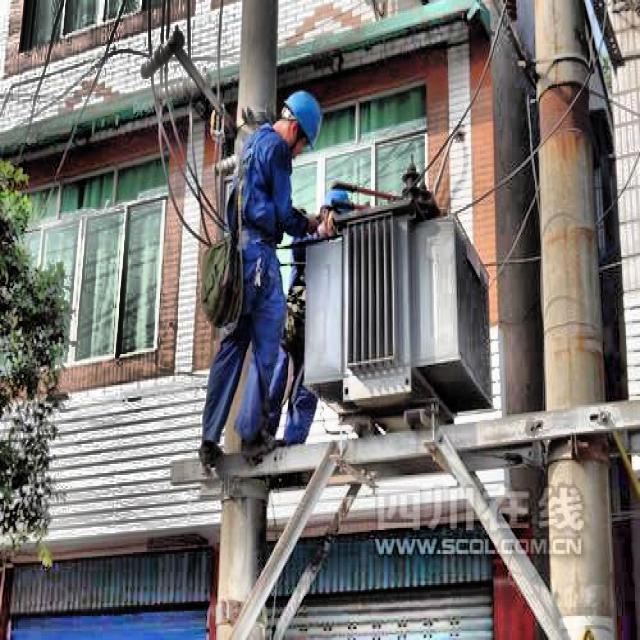helmet: (279, 88, 323, 150), (320, 178, 362, 242)
